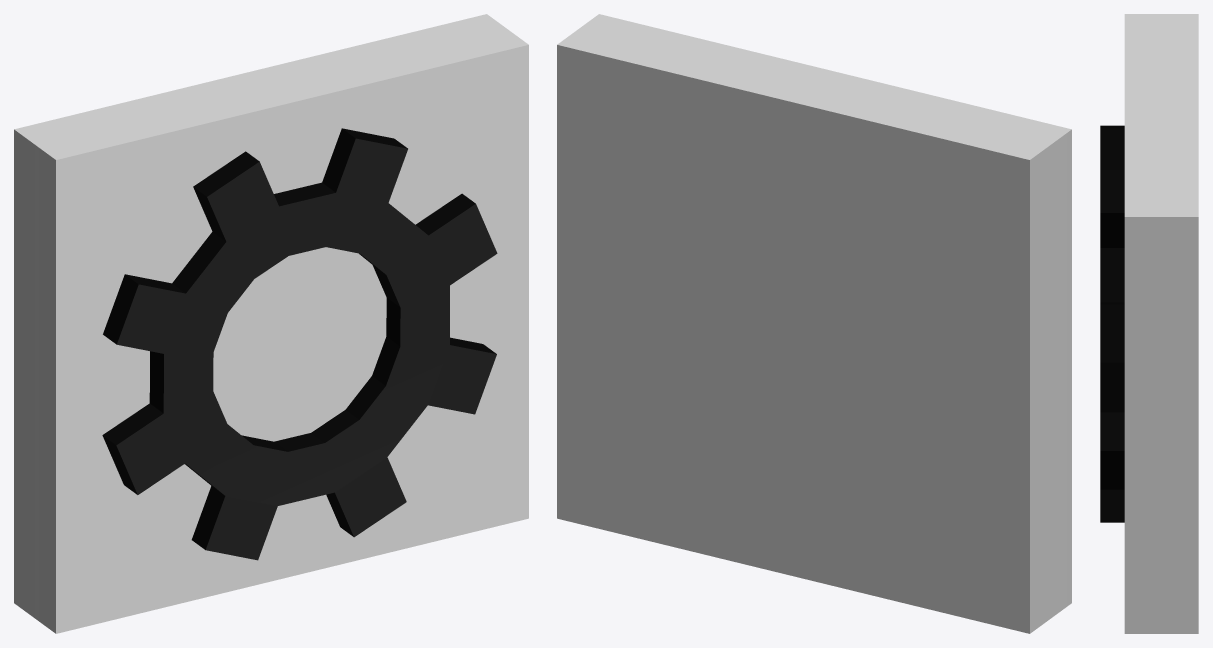
The picture shows the model from 3 angles, left to right: view 1: azimuth 30°, elevation 25°; view 2: azimuth 150°, elevation 25°; view 3: azimuth 270°, elevation 25°; orthographic projection. The views are drawn at different scales.
Parts seen in each view (by area): view 1: settingsButtonSquareWhite; view 2: settingsButtonSquareWhite; view 3: settingsButtonSquareWhite.
Part boxes in pixels (x1,y1,x2,y2): settingsButtonSquareWhite: (14,14,528,633); settingsButtonSquareWhite: (557,14,1071,633); settingsButtonSquareWhite: (1100,14,1198,633).
Size of what is drawn, in the model's own units: 0.2009 by 0.1924 by 0.0412.
Materials: 1 (1 with a texture image).
